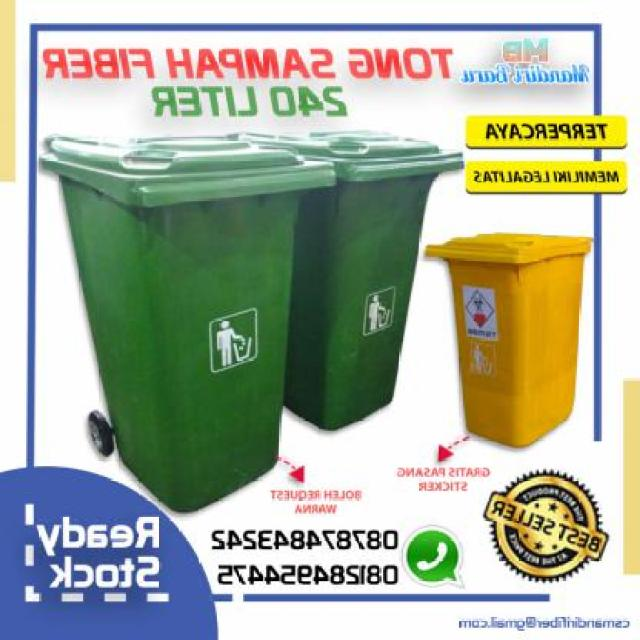garbage container: (37, 129, 338, 517), (286, 114, 468, 434), (425, 228, 597, 455)
